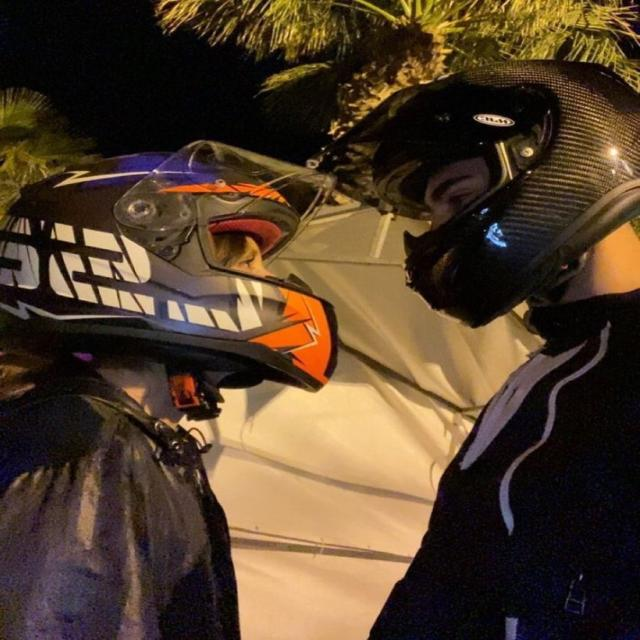helmet: (0, 131, 348, 427), (313, 49, 640, 338)
